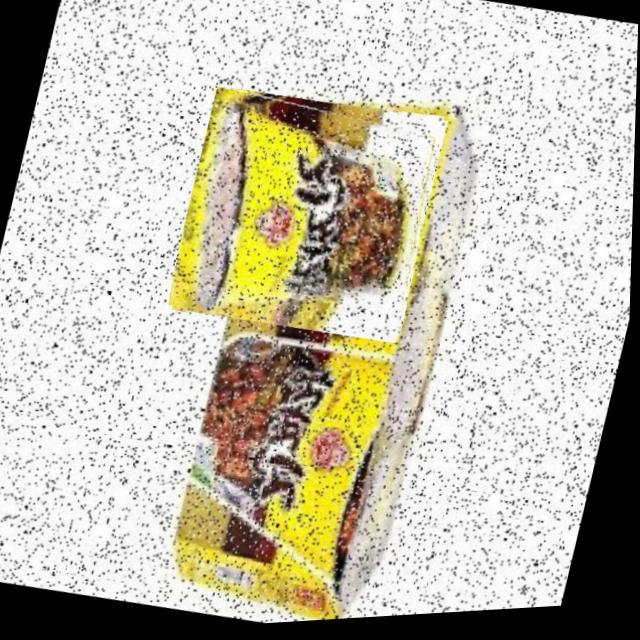Miscellaneous: (165, 74, 452, 358)
